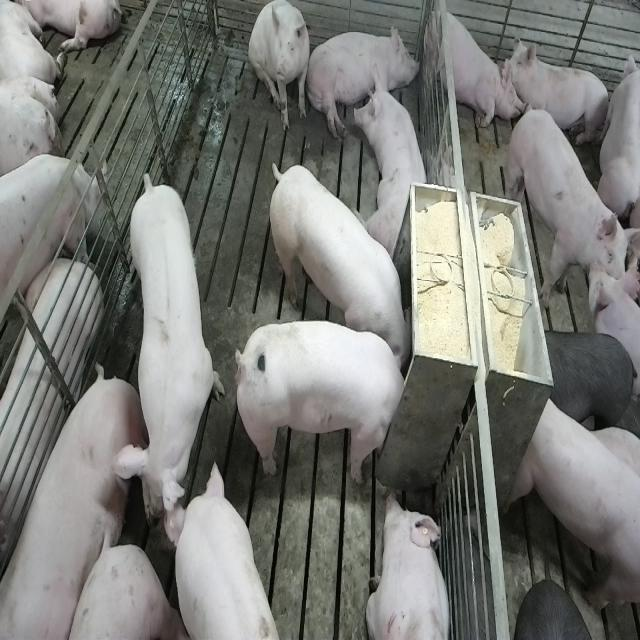Feeding: (264, 160, 412, 370), (241, 318, 415, 484)
Lateral_lying: (4, 367, 156, 640), (306, 22, 421, 141)
Sitting: (424, 0, 518, 135), (250, 1, 312, 134)
Standing: (120, 173, 220, 548), (508, 393, 638, 624), (504, 109, 632, 321), (160, 460, 280, 640), (0, 157, 100, 346), (541, 327, 637, 438)
Sternal_lying: (356, 66, 433, 258), (365, 490, 453, 640), (506, 38, 610, 150)
